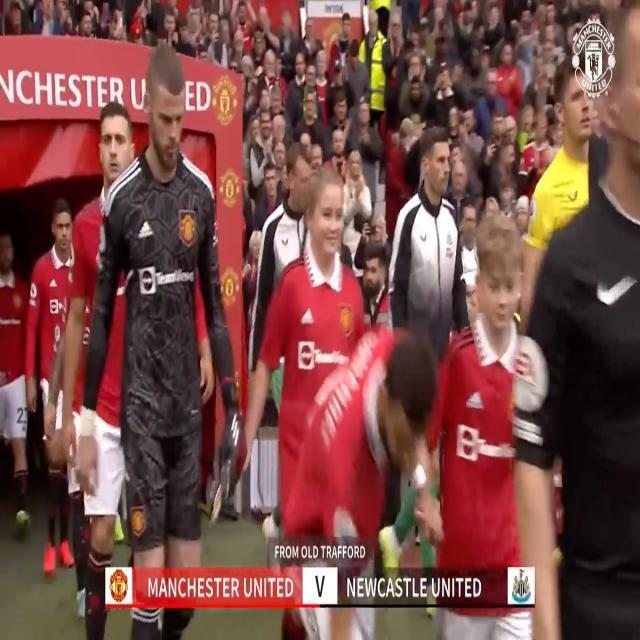Adidas: (466, 388, 484, 411), (138, 217, 154, 240), (300, 306, 314, 328)
Nike: (596, 272, 637, 308)
TeamViewer: (458, 424, 515, 464), (140, 266, 194, 295), (299, 340, 349, 370)
